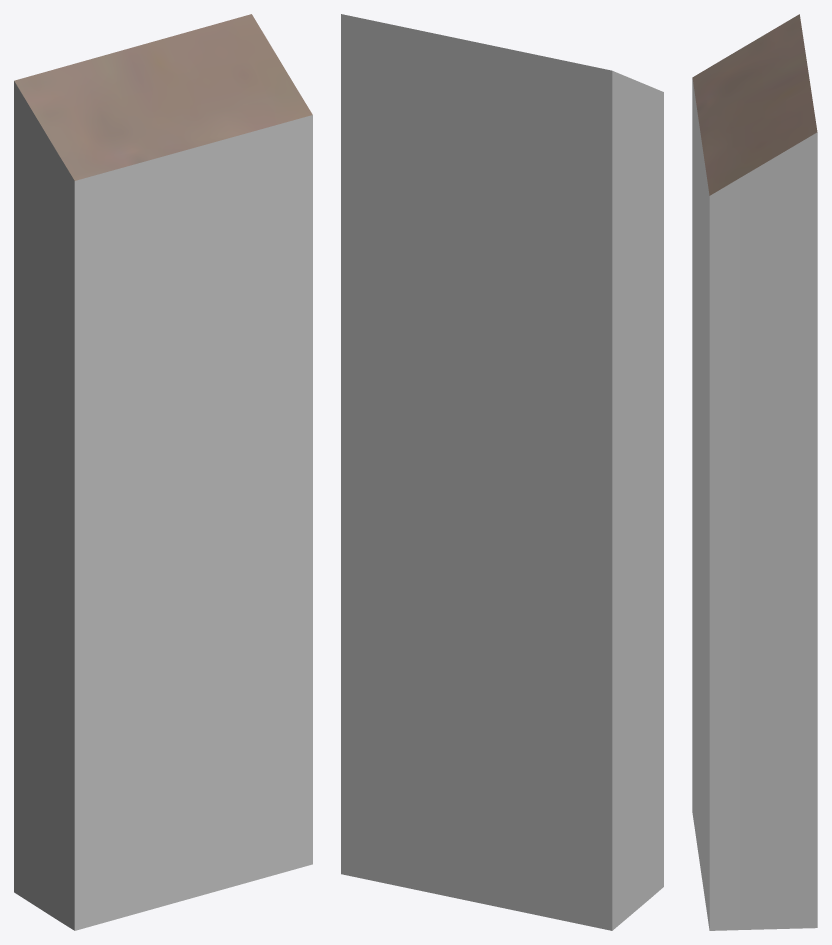
Rendered from DEBW_0010007TI0g.gltf.
3 views of the same model, side by side, from view 1: azimuth 30°, elevation 25°; view 2: azimuth 150°, elevation 25°; view 3: azimuth 270°, elevation 25° (orthographic). The views are drawn at different scales.
Parts seen in each view (by area): view 1: Z_UP; view 2: Z_UP; view 3: Z_UP.
Part boxes in pixels (bbox=[...]): Z_UP: bbox=[14, 14, 312, 930]; Z_UP: bbox=[341, 14, 663, 930]; Z_UP: bbox=[692, 14, 817, 930].
Bounding box in the file's own units: 4.19 × 12.86 × 1.83.
2 materials, 1 textured.
